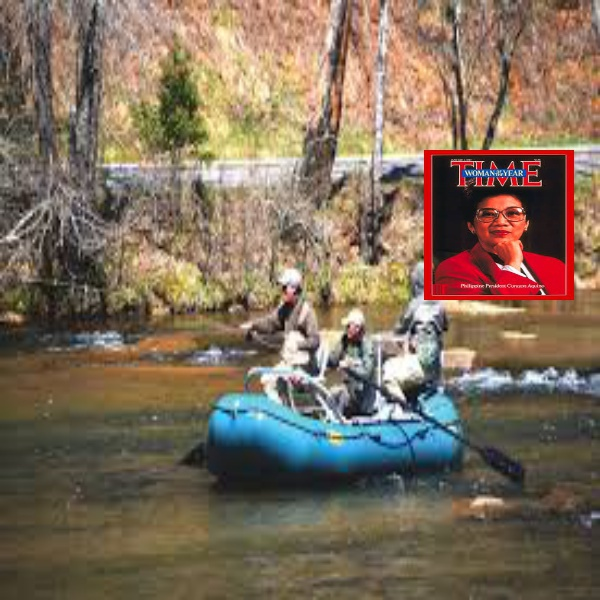time_cover: (419, 151, 578, 306)
